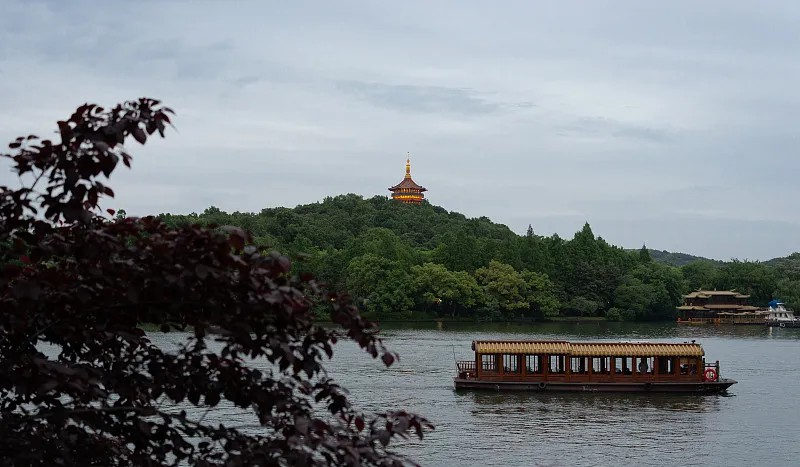Leifeng: (389, 150, 429, 202)
